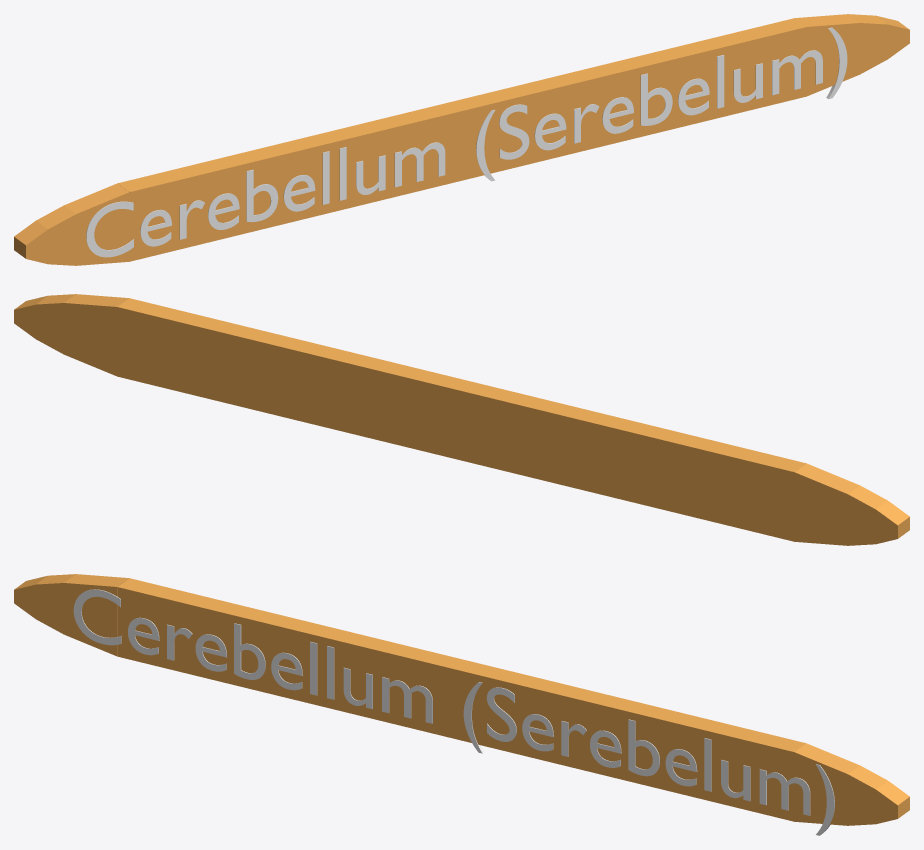
Rendered from txtCerebellum.fbx.
3 renders of one model, top to bottom at view 1: azimuth 30°, elevation 25°; view 2: azimuth 150°, elevation 25°; view 3: azimuth 330°, elevation 25°, orthographic.
Parts seen in each view (by area): view 1: TagContainer.096, Text.098; view 2: TagContainer.096; view 3: TagContainer.096, Text.098.
Boxes of the visible parts, bbox=[...] form: TagContainer.096: bbox=[14, 14, 909, 265]; Text.098: bbox=[86, 27, 847, 257]; TagContainer.096: bbox=[14, 294, 909, 545]; TagContainer.096: bbox=[14, 574, 909, 825]; Text.098: bbox=[73, 589, 834, 835].
Bounding box in the file's own units: 549 × 45.81 × 13.41.
